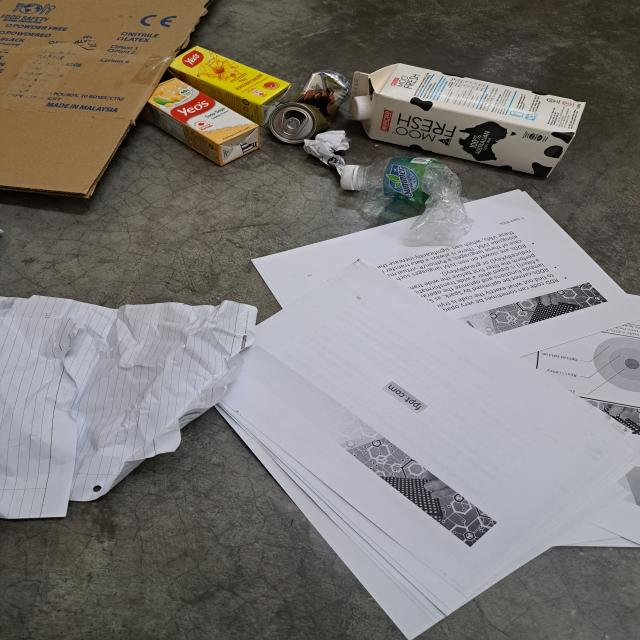can: (268, 70, 350, 144)
cardboard: (0, 0, 218, 201)
drink carton: (348, 62, 586, 179), (141, 77, 260, 167), (168, 45, 292, 127)
paper: (207, 191, 640, 640), (0, 295, 261, 520), (304, 130, 352, 176)
plastic bottle: (364, 155, 474, 245)
plastic bottle cap: (341, 164, 358, 190), (350, 97, 368, 120)
pop tab: (282, 117, 300, 136)
